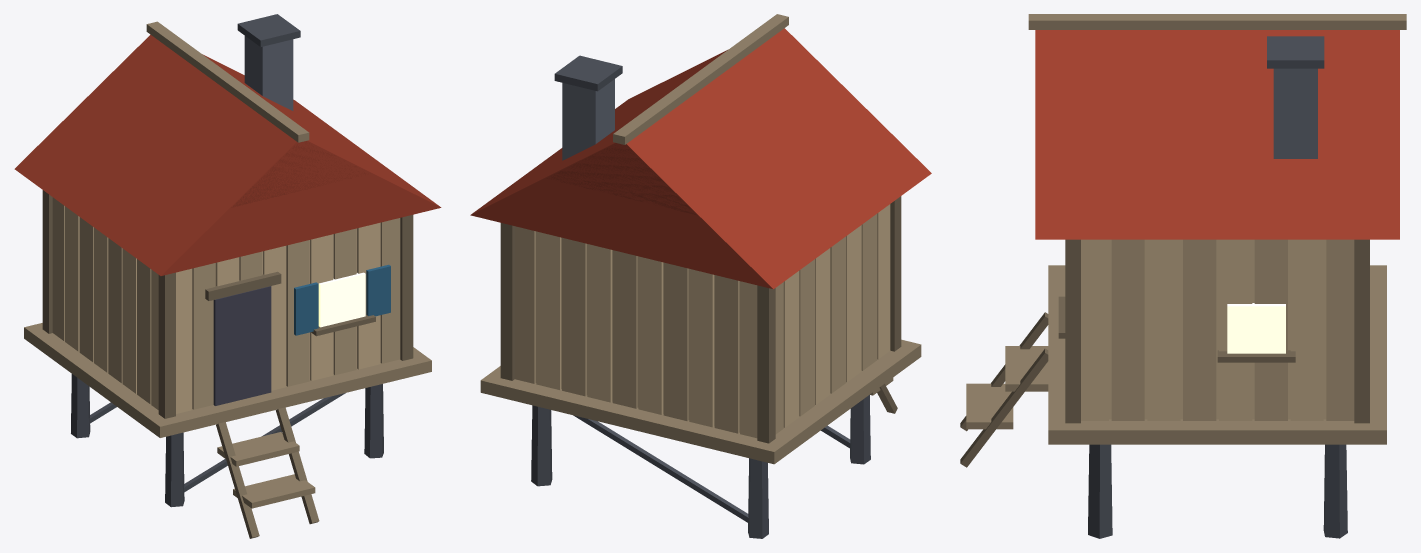
Rendered from house_stilt.glb.
3 renders of one model, left to right at view 1: azimuth 30°, elevation 25°; view 2: azimuth 150°, elevation 25°; view 3: azimuth 270°, elevation 25°, orthographic. The views are drawn at different scales.
Visible parts, largest first — view 1: coal_d10, driftwood_d12, driftwood, driftwood_d25, driftwood_d40, slate_d30, ink_l20, slate_d10, tide_d15, kindle_glow, coal_d25; view 2: coal_d10, driftwood, driftwood_d12, driftwood_d25, slate_d30, driftwood_d40, slate_d10, coal_d25; view 3: coal_d10, driftwood, driftwood_d25, driftwood_d12, driftwood_d40, slate_d30, slate_d10, kindle_glow.
Part boxes in pixels (bbox=[...]): coal_d10: bbox=[14, 34, 441, 275]; driftwood_d12: bbox=[52, 197, 400, 409]; driftwood: bbox=[65, 206, 380, 413]; driftwood_d25: bbox=[24, 21, 431, 508]; driftwood_d40: bbox=[42, 190, 413, 538]; slate_d30: bbox=[71, 14, 383, 507]; ink_l20: bbox=[213, 286, 271, 405]; slate_d10: bbox=[244, 36, 293, 110]; tide_d15: bbox=[294, 264, 390, 335]; kindle_glow: bbox=[318, 272, 365, 327]; coal_d25: bbox=[231, 141, 365, 207]; coal_d10: bbox=[470, 28, 931, 289]; driftwood: bbox=[536, 204, 890, 438]; driftwood_d12: bbox=[515, 214, 876, 434]; driftwood_d25: bbox=[480, 14, 921, 464]; slate_d30: bbox=[531, 55, 870, 538]; driftwood_d40: bbox=[500, 196, 901, 443]; slate_d10: bbox=[562, 79, 614, 160]; coal_d25: bbox=[546, 144, 697, 215]; coal_d10: bbox=[1035, 30, 1399, 239]; driftwood: bbox=[1081, 239, 1326, 420]; driftwood_d25: bbox=[966, 14, 1406, 444]; driftwood_d12: bbox=[1111, 239, 1354, 420]; driftwood_d40: bbox=[960, 239, 1369, 467]; slate_d30: bbox=[1088, 36, 1347, 538]; slate_d10: bbox=[1273, 68, 1317, 158]; kindle_glow: bbox=[1227, 303, 1285, 353].
Size of the model in its own units: 3.1 by 3.99 by 3.42.
